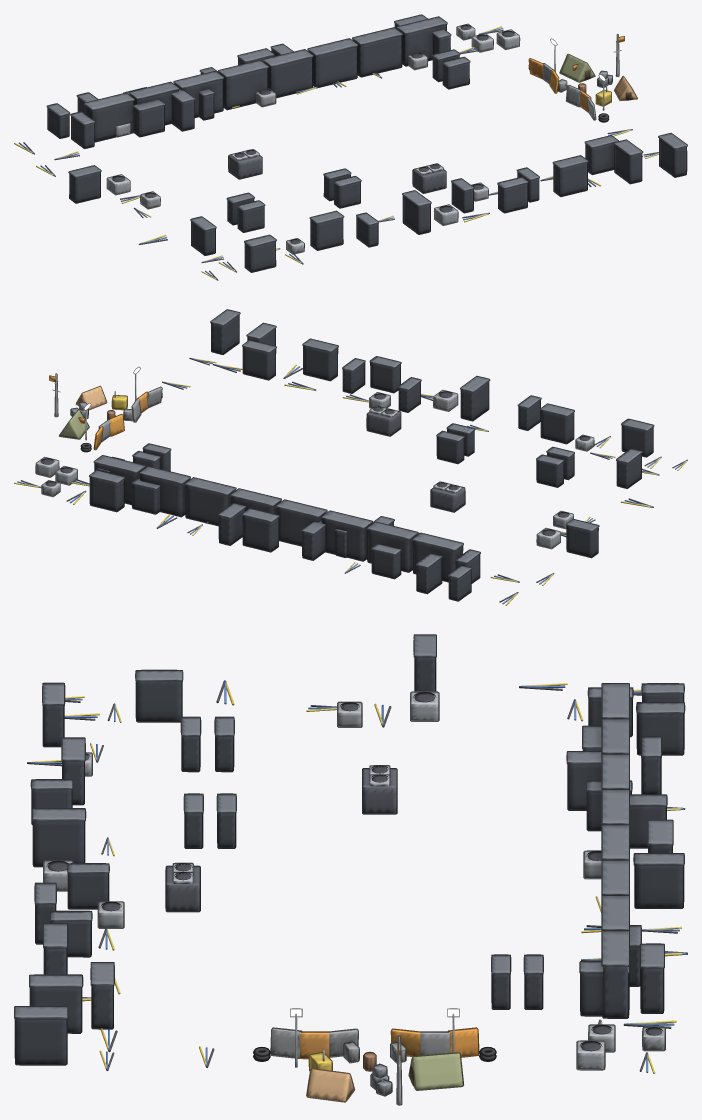
Rendered from server_hall.glb.
3 renders of one model, top to bottom at view 1: azimuth 30°, elevation 25°; view 2: azimuth 150°, elevation 25°; view 3: azimuth 270°, elevation 25°, orthographic. The views are drawn at different scales.
Parts seen in each view (by area): view 1: Baked_metal, Baked_matte, Baked_metal_Outline, Baked_matte_Outline, Baked_satin, Baked_satin_Outline; view 2: Baked_metal, Baked_matte, Baked_metal_Outline, Baked_matte_Outline, Baked_satin; view 3: Baked_metal, Baked_matte, Baked_metal_Outline, Baked_satin, Baked_matte_Outline, Baked_satin_Outline.
Boxes of the visible parts, box(x1,y1,x2,y2) form: Baked_metal: box(47, 15, 687, 272); Baked_matte: box(14, 24, 658, 280); Baked_metal_Outline: box(46, 14, 687, 272); Baked_matte_Outline: box(106, 23, 637, 254); Baked_satin: box(112, 25, 624, 244); Baked_satin_Outline: box(111, 24, 624, 241); Baked_metal: box(52, 310, 653, 600); Baked_matte: box(14, 358, 687, 605); Baked_metal_Outline: box(54, 309, 654, 601); Baked_matte_Outline: box(35, 385, 594, 573); Baked_satin: box(41, 376, 589, 535); Baked_metal: box(15, 635, 683, 1104); Baked_matte: box(27, 680, 687, 1101); Baked_metal_Outline: box(14, 634, 685, 1105); Baked_satin: box(47, 693, 661, 1057); Baked_matte_Outline: box(43, 691, 665, 1102); Baked_satin_Outline: box(46, 692, 663, 1059).
Bounding box in the file's own units: 41.48 × 3.1 × 27.43.
